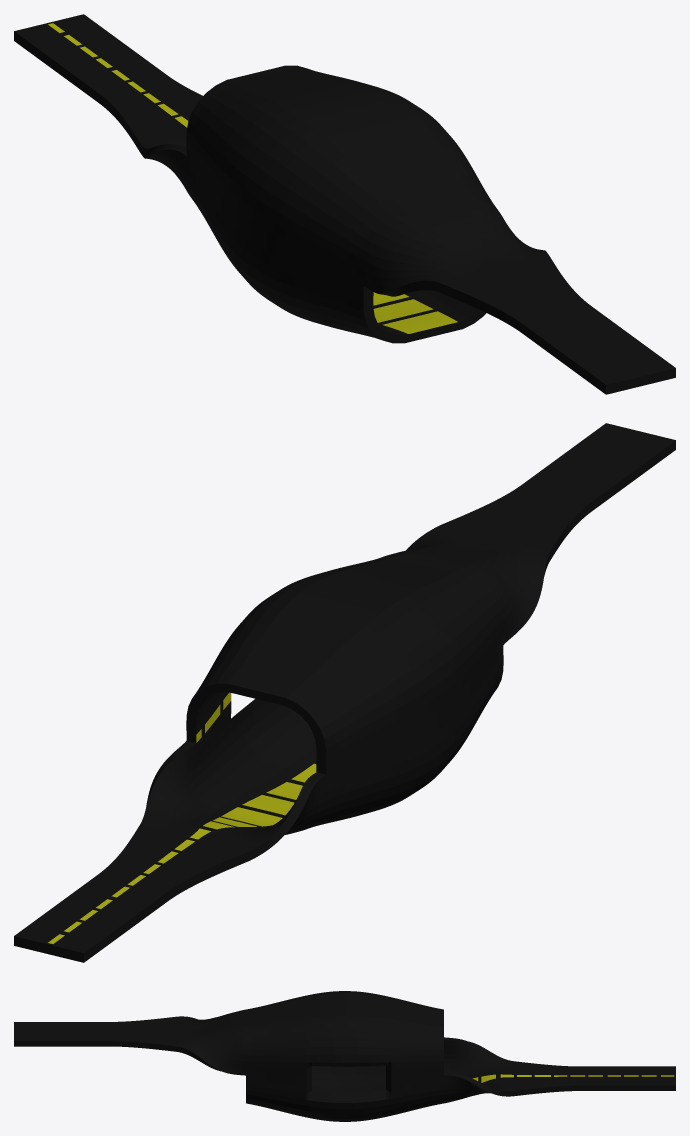
Rendered from RoadFlipTunnel.fbx.
3 views of the same model, one above another, from view 1: azimuth 30°, elevation 25°; view 2: azimuth 150°, elevation 25°; view 3: azimuth 270°, elevation 25° (orthographic). The views are drawn at different scales.
Visible parts, largest first — view 1: Cube.002; view 2: Cube.002; view 3: Cube.002.
Part boxes in pixels (<box>): Cube.002: <box>14,14,675,394</box>; Cube.002: <box>14,423,675,962</box>; Cube.002: <box>14,991,675,1121</box>.
Size of the model in its own units: 3090 by 2830 by 16275.
